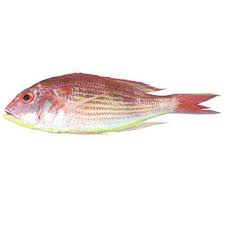Ikan Kerisi: (4, 71, 212, 137)
